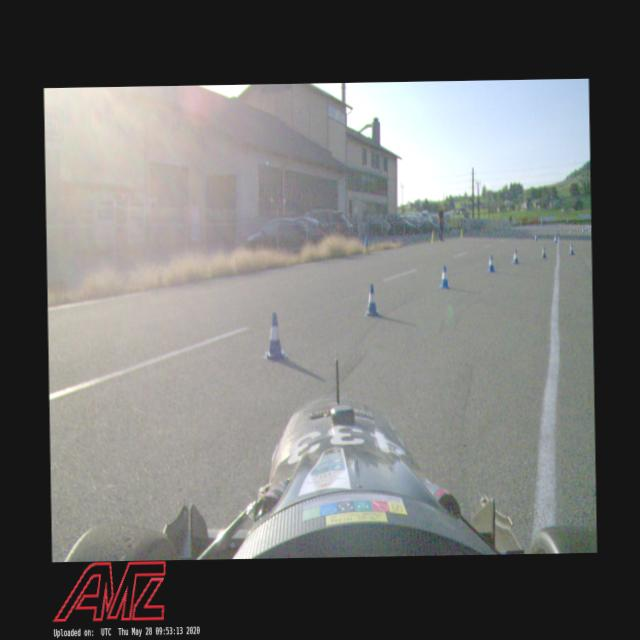blue_cone: (263, 312, 285, 361), (363, 283, 379, 316), (438, 264, 450, 290), (486, 253, 494, 272), (512, 248, 519, 264), (540, 245, 546, 258), (570, 242, 574, 255), (554, 234, 558, 243), (534, 232, 537, 240)
